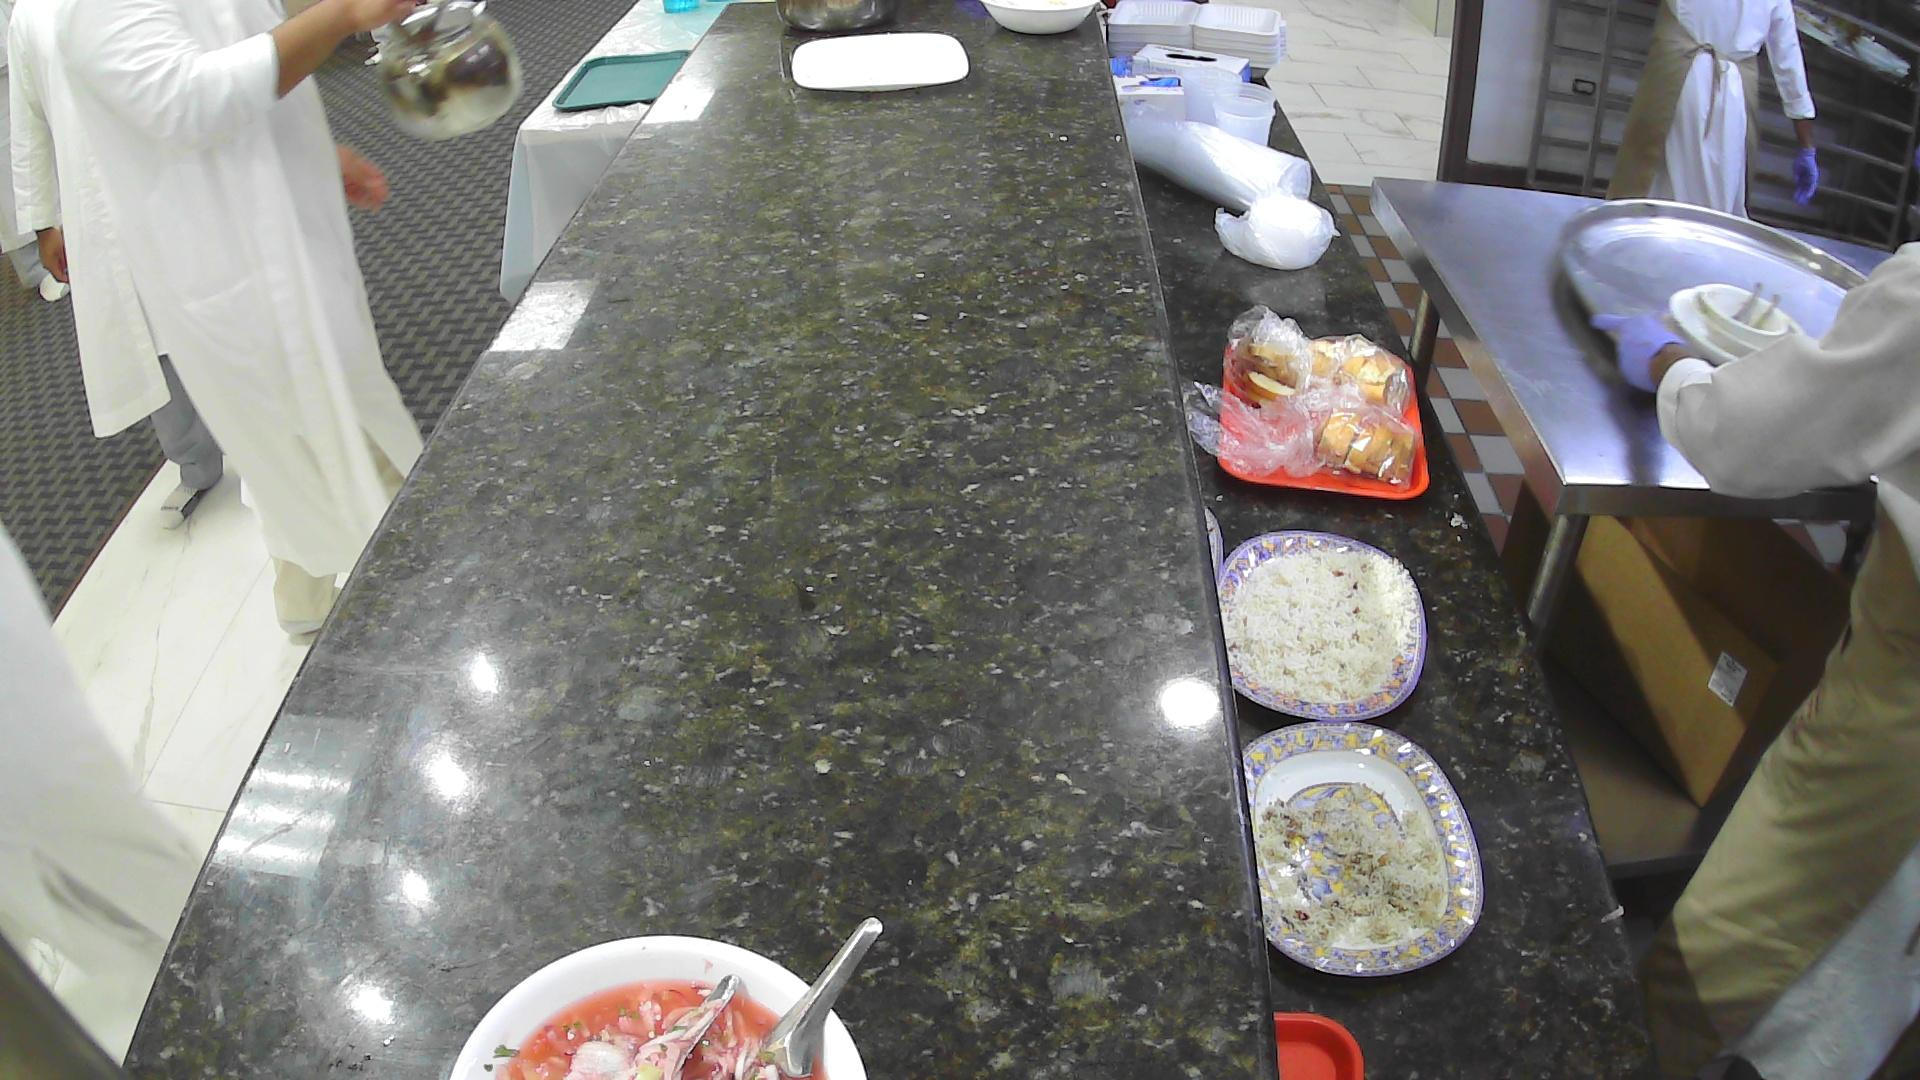thaal: (1553, 195, 1870, 368)
